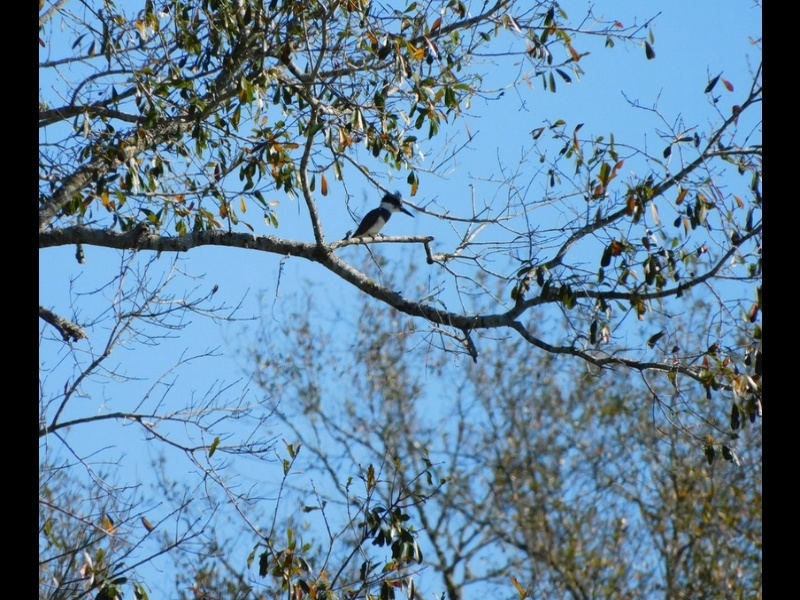kingfisher: (352, 190, 415, 246)
